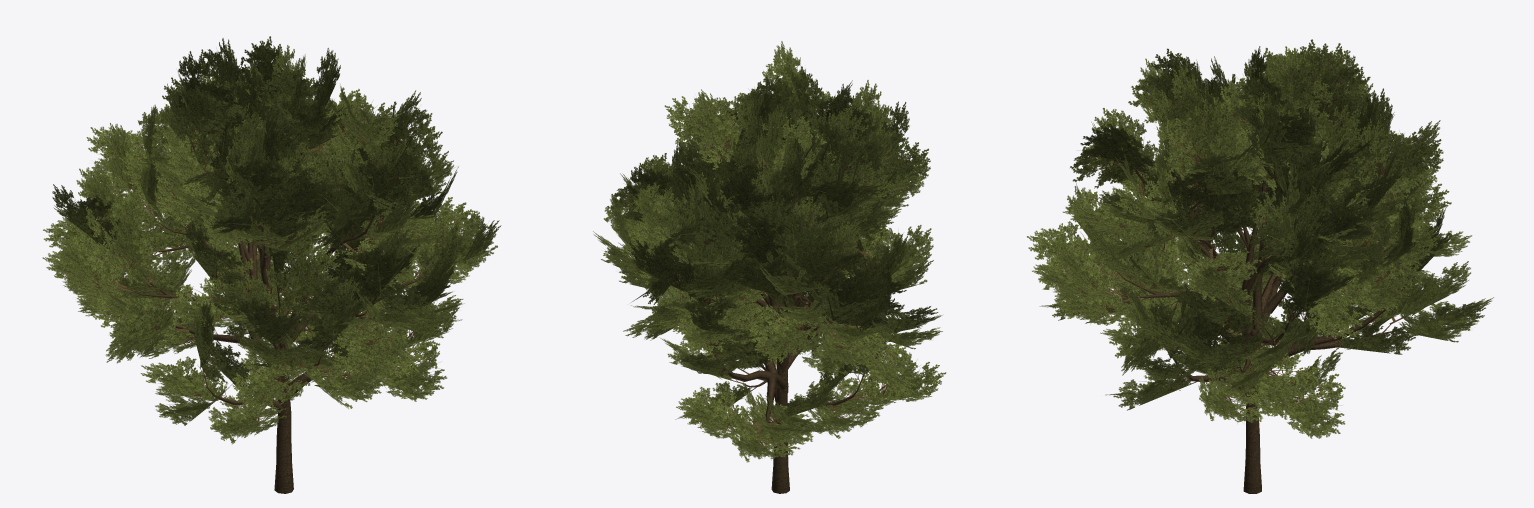
The model's file is oakTree.glb.
The picture shows the model from 3 angles, left to right: view 1: azimuth 30°, elevation 25°; view 2: azimuth 150°, elevation 25°; view 3: azimuth 270°, elevation 25°; orthographic projection. The views are drawn at different scales.
Parts seen in each view (by area): view 1: Oak_25; view 2: Oak_25; view 3: Oak_25.
Part boxes in pixels (x1,y1,x2,y2): Oak_25: [42, 36, 501, 493]; Oak_25: [593, 41, 946, 493]; Oak_25: [1027, 39, 1493, 493].
Size of the model in its own units: 18.74 by 18.93 by 19.31.
2 materials, 2 textured.
